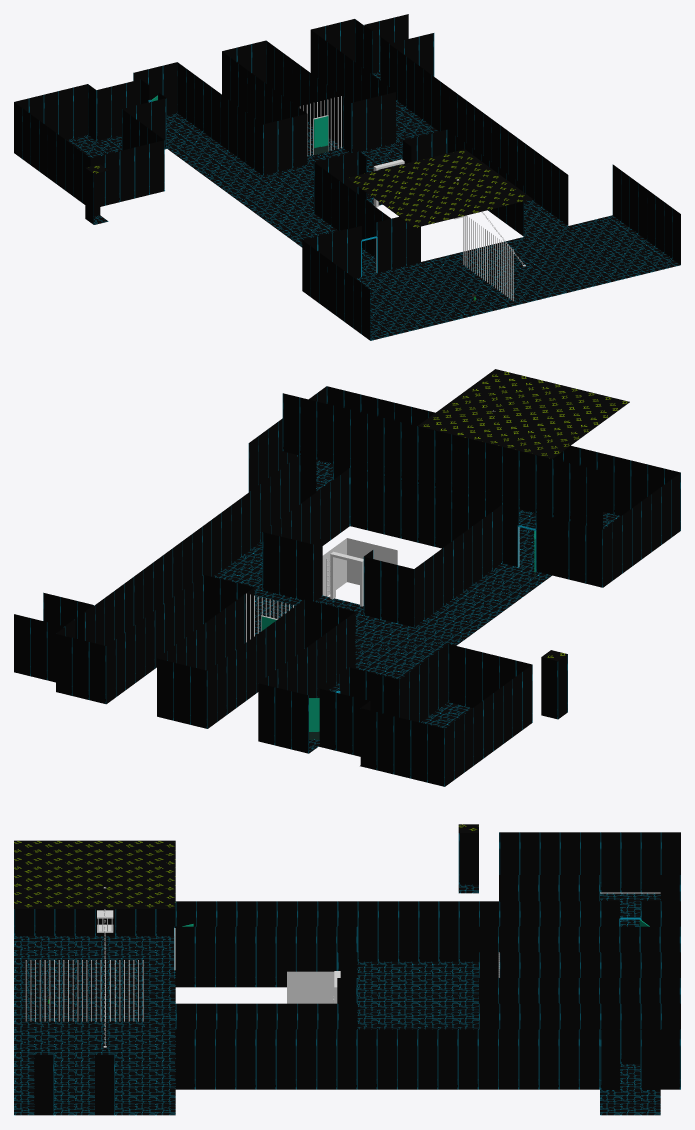
Rendered from house_floor2.glb.
3 renders of one model, top to bottom at view 1: azimuth 30°, elevation 25°; view 2: azimuth 150°, elevation 25°; view 3: azimuth 270°, elevation 25°, orthographic. The views are drawn at different scales.
Visible parts, largest first — view 1: Bars.001, wall_tile.214, wall_tile.234, wall_tile.012, wall_tile.014, wall_tile.015, wall_tile.235, wall_tile.013, wall_tile.166, wall_tile.165, wall_tile.011, wall_tile.237 (+33 smaller); view 2: shaft_wall_end, wall_tile.121, wall_tile.149, wall_tile.159, wall_tile.221, wall_tile.006, wall_tile.007, wall_tile.134, wall_tile.144, wall_tile.148, wall_tile.161, wall_tile.092 (+79 smaller); view 3: shaftwall1, Bars, Bars.001, wall_tile.079, wall_tile.076, wall_tile.078, wall_tile.080, wall_tile.059, wall_tile.243, wall_tile.049, wall_tile.053, wall_tile.054 (+124 smaller).
Boxes of the visible parts, left/top/right/bottom form: Bars.001: left=489, top=231, right=513, bottom=301; wall_tile.214: left=96, top=86, right=111, bottom=141; wall_tile.234: left=120, top=147, right=135, bottom=201; wall_tile.012: left=366, top=96, right=381, bottom=150; wall_tile.014: left=277, top=117, right=292, bottom=171; wall_tile.015: left=292, top=114, right=307, bottom=168; wall_tile.235: left=105, top=151, right=120, bottom=205; wall_tile.013: left=351, top=99, right=366, bottom=152; wall_tile.166: left=391, top=216, right=406, bottom=269; wall_tile.165: left=376, top=219, right=391, bottom=272; wall_tile.011: left=381, top=92, right=395, bottom=146; wall_tile.237: left=150, top=140, right=164, bottom=194; shaft_wall_end: left=347, top=538, right=397, bottom=584; wall_tile.121: left=552, top=517, right=569, bottom=579; wall_tile.149: left=299, top=397, right=316, bottom=459; wall_tile.159: left=417, top=484, right=434, bottom=546; wall_tile.221: left=377, top=712, right=394, bottom=774; wall_tile.006: left=397, top=565, right=414, bottom=627; wall_tile.007: left=262, top=532, right=279, bottom=594; wall_tile.134: left=552, top=459, right=569, bottom=521; wall_tile.144: left=417, top=426, right=434, bottom=488; wall_tile.148: left=434, top=430, right=451, bottom=492; wall_tile.161: left=383, top=476, right=400, bottom=538; wall_tile.092: left=319, top=688, right=336, bottom=750; shaftwall1: left=287, top=971, right=334, bottom=1003; Bars: left=86, top=960, right=143, bottom=1021; Bars.001: left=25, top=960, right=82, bottom=1021; wall_tile.079: left=236, top=926, right=256, bottom=987; wall_tile.076: left=175, top=926, right=195, bottom=987; wall_tile.078: left=216, top=926, right=236, bottom=987; wall_tile.080: left=256, top=926, right=276, bottom=987; wall_tile.059: left=640, top=1029, right=660, bottom=1090; wall_tile.243: left=600, top=1029, right=620, bottom=1090; wall_tile.049: left=620, top=1003, right=640, bottom=1063; wall_tile.053: left=499, top=1029, right=519, bottom=1089; wall_tile.054: left=519, top=1029, right=539, bottom=1089.
Size of what is drawn, in the model's own units: 27.06 by 6.85 by 33.
Materials: 9 (8 with a texture image).
